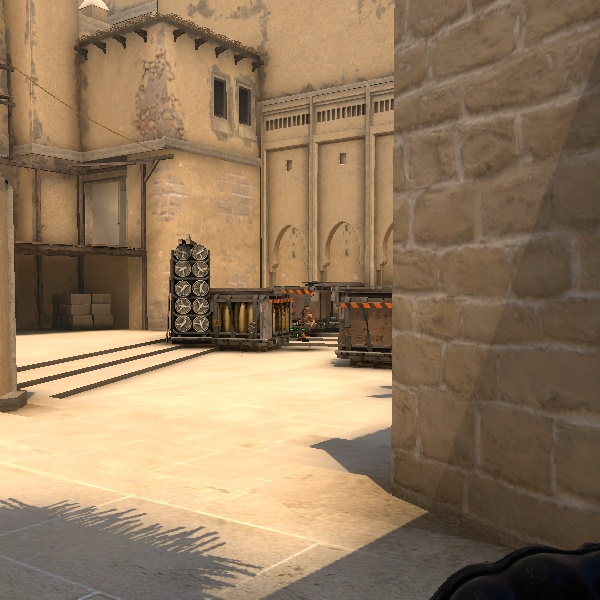t_body: (291, 305, 323, 338)
